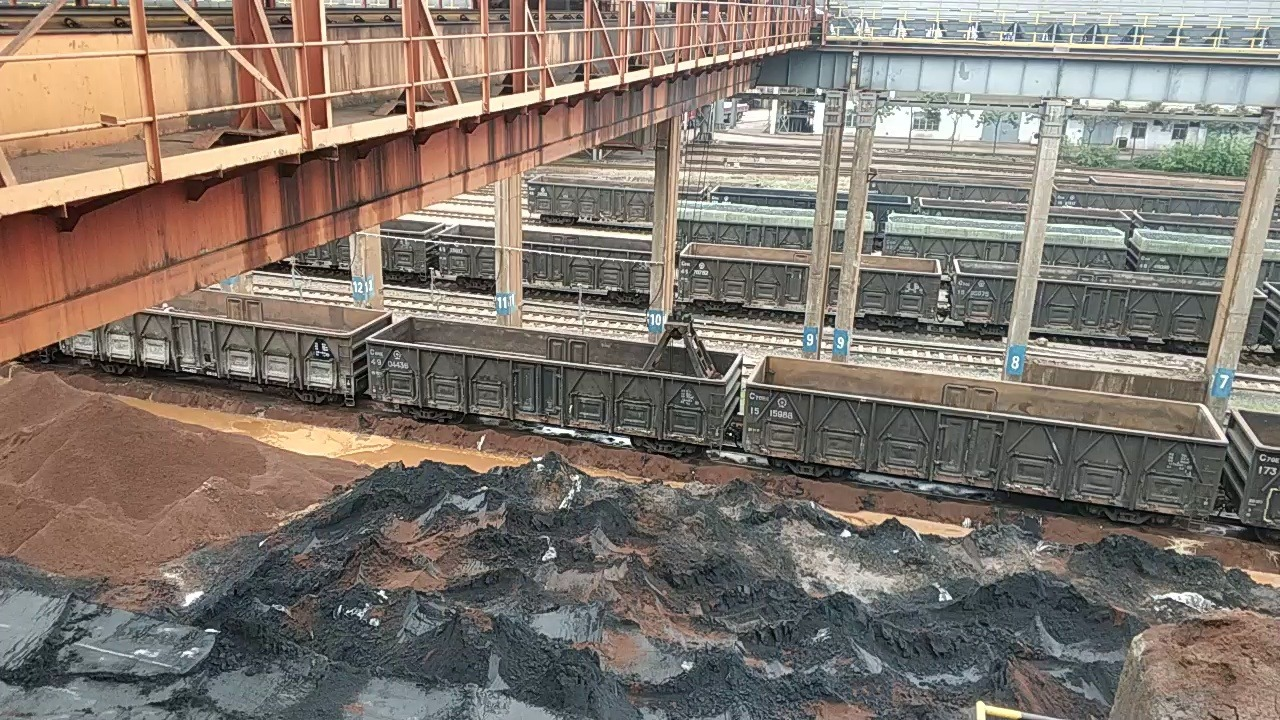grab: (635, 297, 726, 383)
